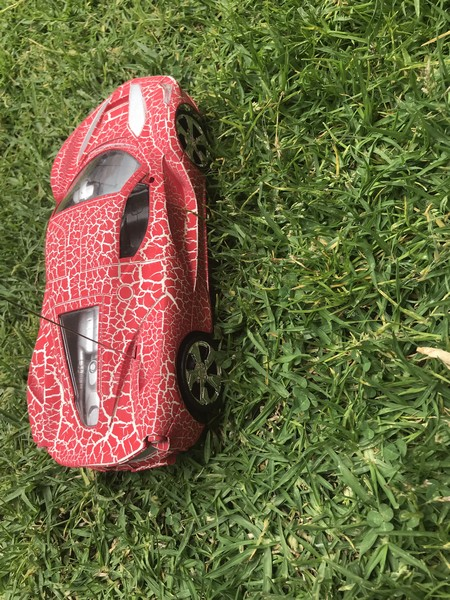RC: (24, 74, 229, 479)
